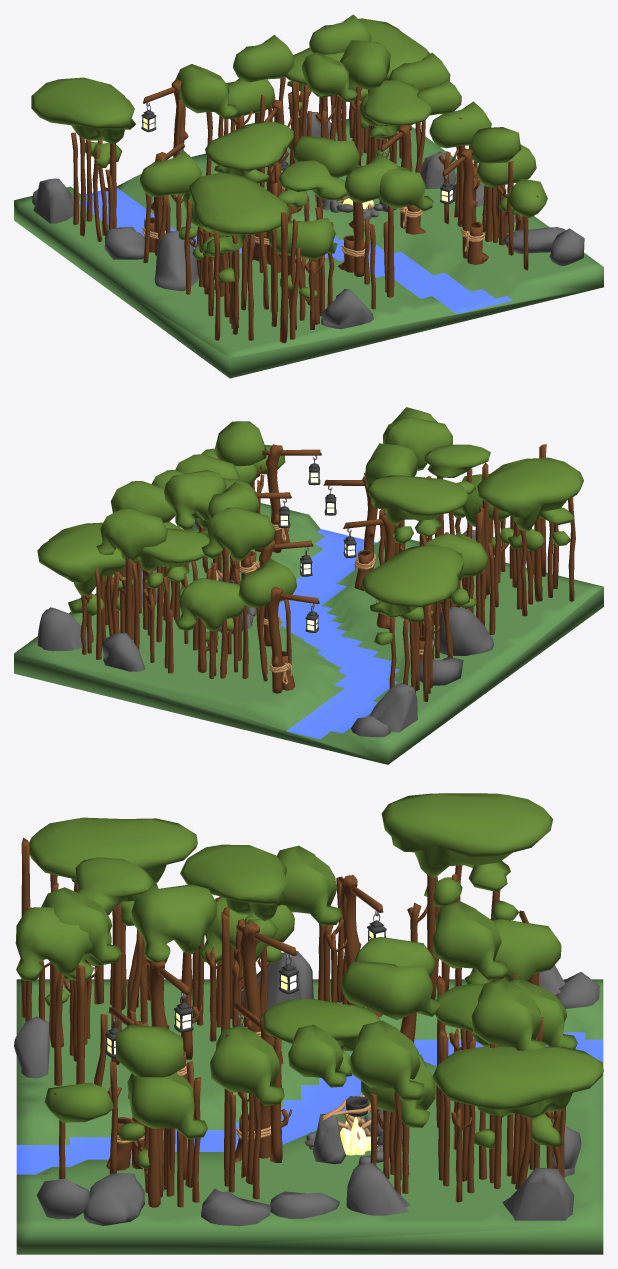
The model's file is forest.glb.
The picture shows the model from 3 angles, top to bottom: view 1: azimuth 30°, elevation 25°; view 2: azimuth 150°, elevation 25°; view 3: azimuth 270°, elevation 25°; orthographic projection. The views are drawn at different scales.
Parts seen in each view (by area): view 1: plane.001; view 2: plane.001; view 3: plane.001, fire.
Boxes of the visible parts, <box> form: plane.001: <box>14,14,603,378</box>; plane.001: <box>14,407,603,764</box>; plane.001: <box>14,793,603,1254</box>; fire: <box>340,1116,377,1155</box>.
Bounding box in the file's own units: 16.55 × 6.6 × 15.7.
